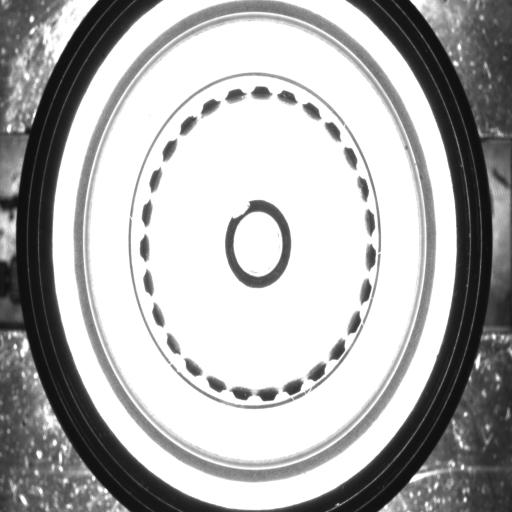gear: (138, 86, 377, 404)
